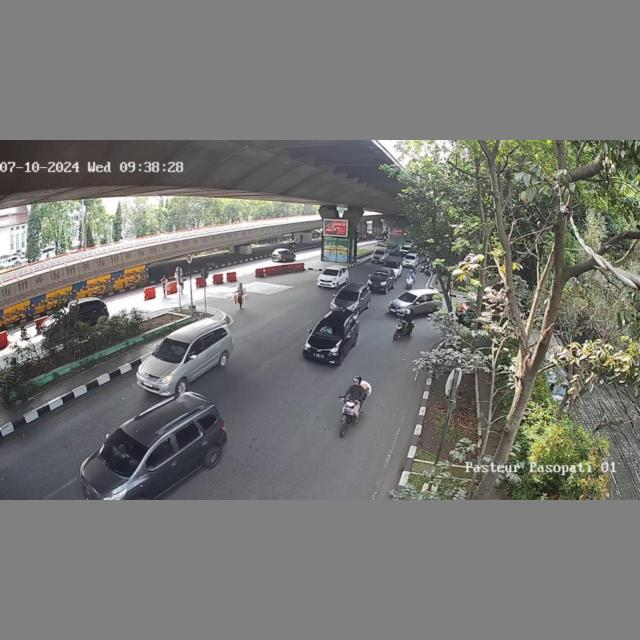windshield: (97, 427, 151, 471), (150, 338, 189, 366), (313, 320, 344, 340), (335, 289, 358, 301), (398, 292, 415, 302), (373, 271, 389, 279), (323, 269, 338, 276)
